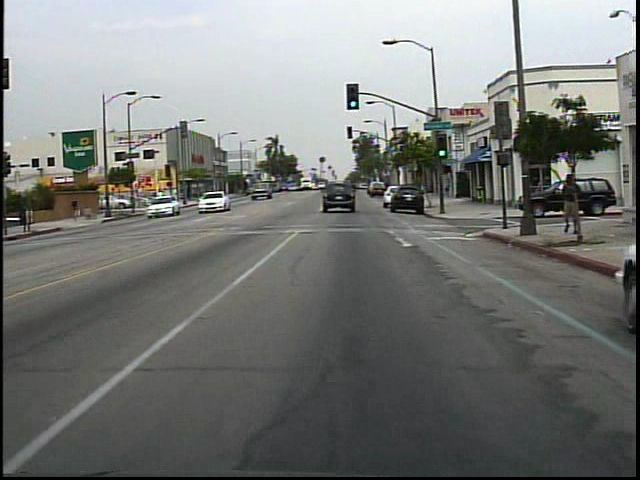person: (558, 168, 584, 243), (69, 192, 89, 221), (154, 185, 170, 209)
